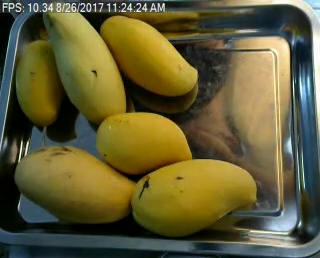Mango: (42, 0, 126, 121), (129, 158, 257, 237), (14, 145, 140, 223), (101, 15, 199, 96), (94, 111, 192, 172), (15, 40, 62, 124)
